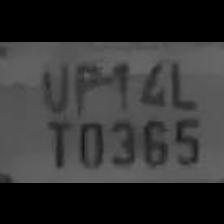0: (71, 114, 105, 168)
1: (104, 53, 132, 111)
3: (106, 113, 138, 168)
4: (135, 53, 169, 109)
5: (169, 104, 203, 166)
6: (138, 111, 170, 169)
L: (164, 52, 196, 104)
P: (70, 54, 102, 116)
T: (41, 113, 71, 168)
U: (36, 54, 72, 112)
